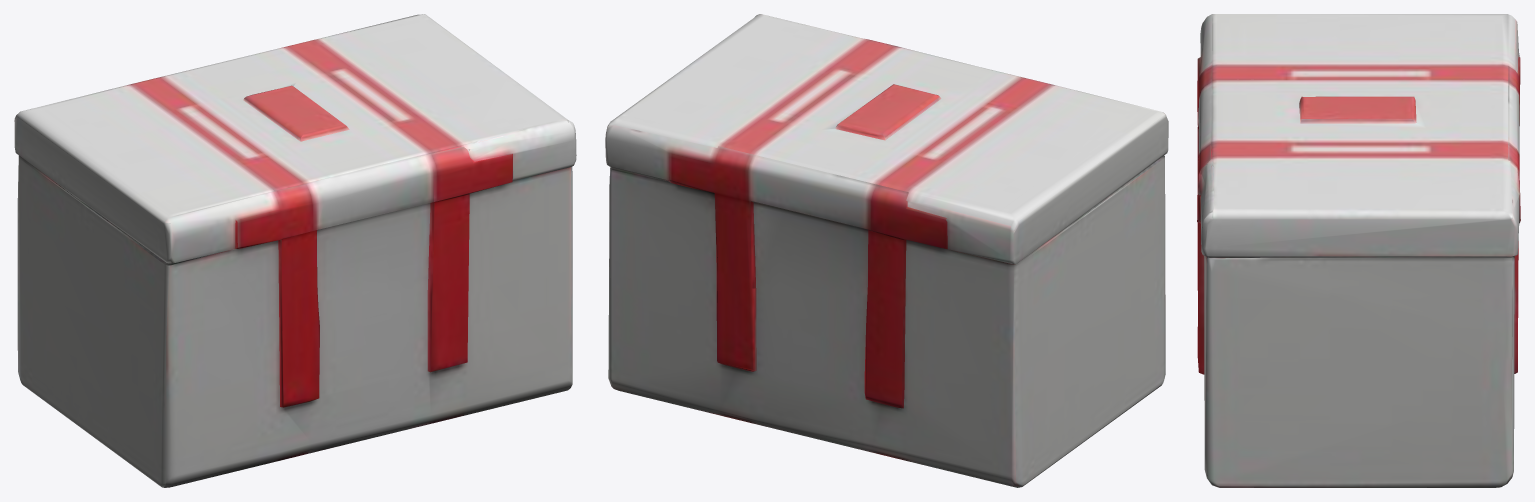
The model's file is medkit.glb.
The picture shows the model from 3 angles, left to right: view 1: azimuth 30°, elevation 25°; view 2: azimuth 150°, elevation 25°; view 3: azimuth 270°, elevation 25°; orthographic projection.
Parts seen in each view (by area): view 1: medkit; view 2: medkit; view 3: medkit.
Part boxes in pixels (x1=…): medkit: x1=14, y1=14, x2=576, y2=487; medkit: x1=605, y1=14, x2=1168, y2=487; medkit: x1=1197, y1=14, x2=1520, y2=487.
Size of the model in its own units: 0.9994 by 0.6659 by 0.6736.
Materials: 1 (1 with a texture image).
